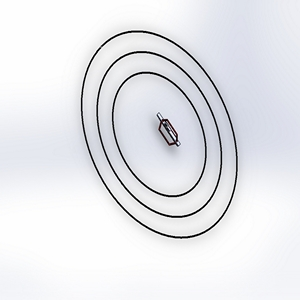circle: (70, 24, 244, 246)
submarine: (145, 107, 186, 155)
